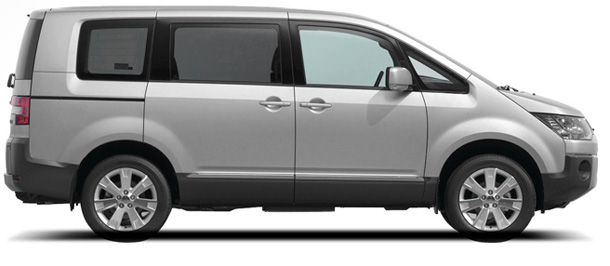van: (5, 4, 599, 242)
